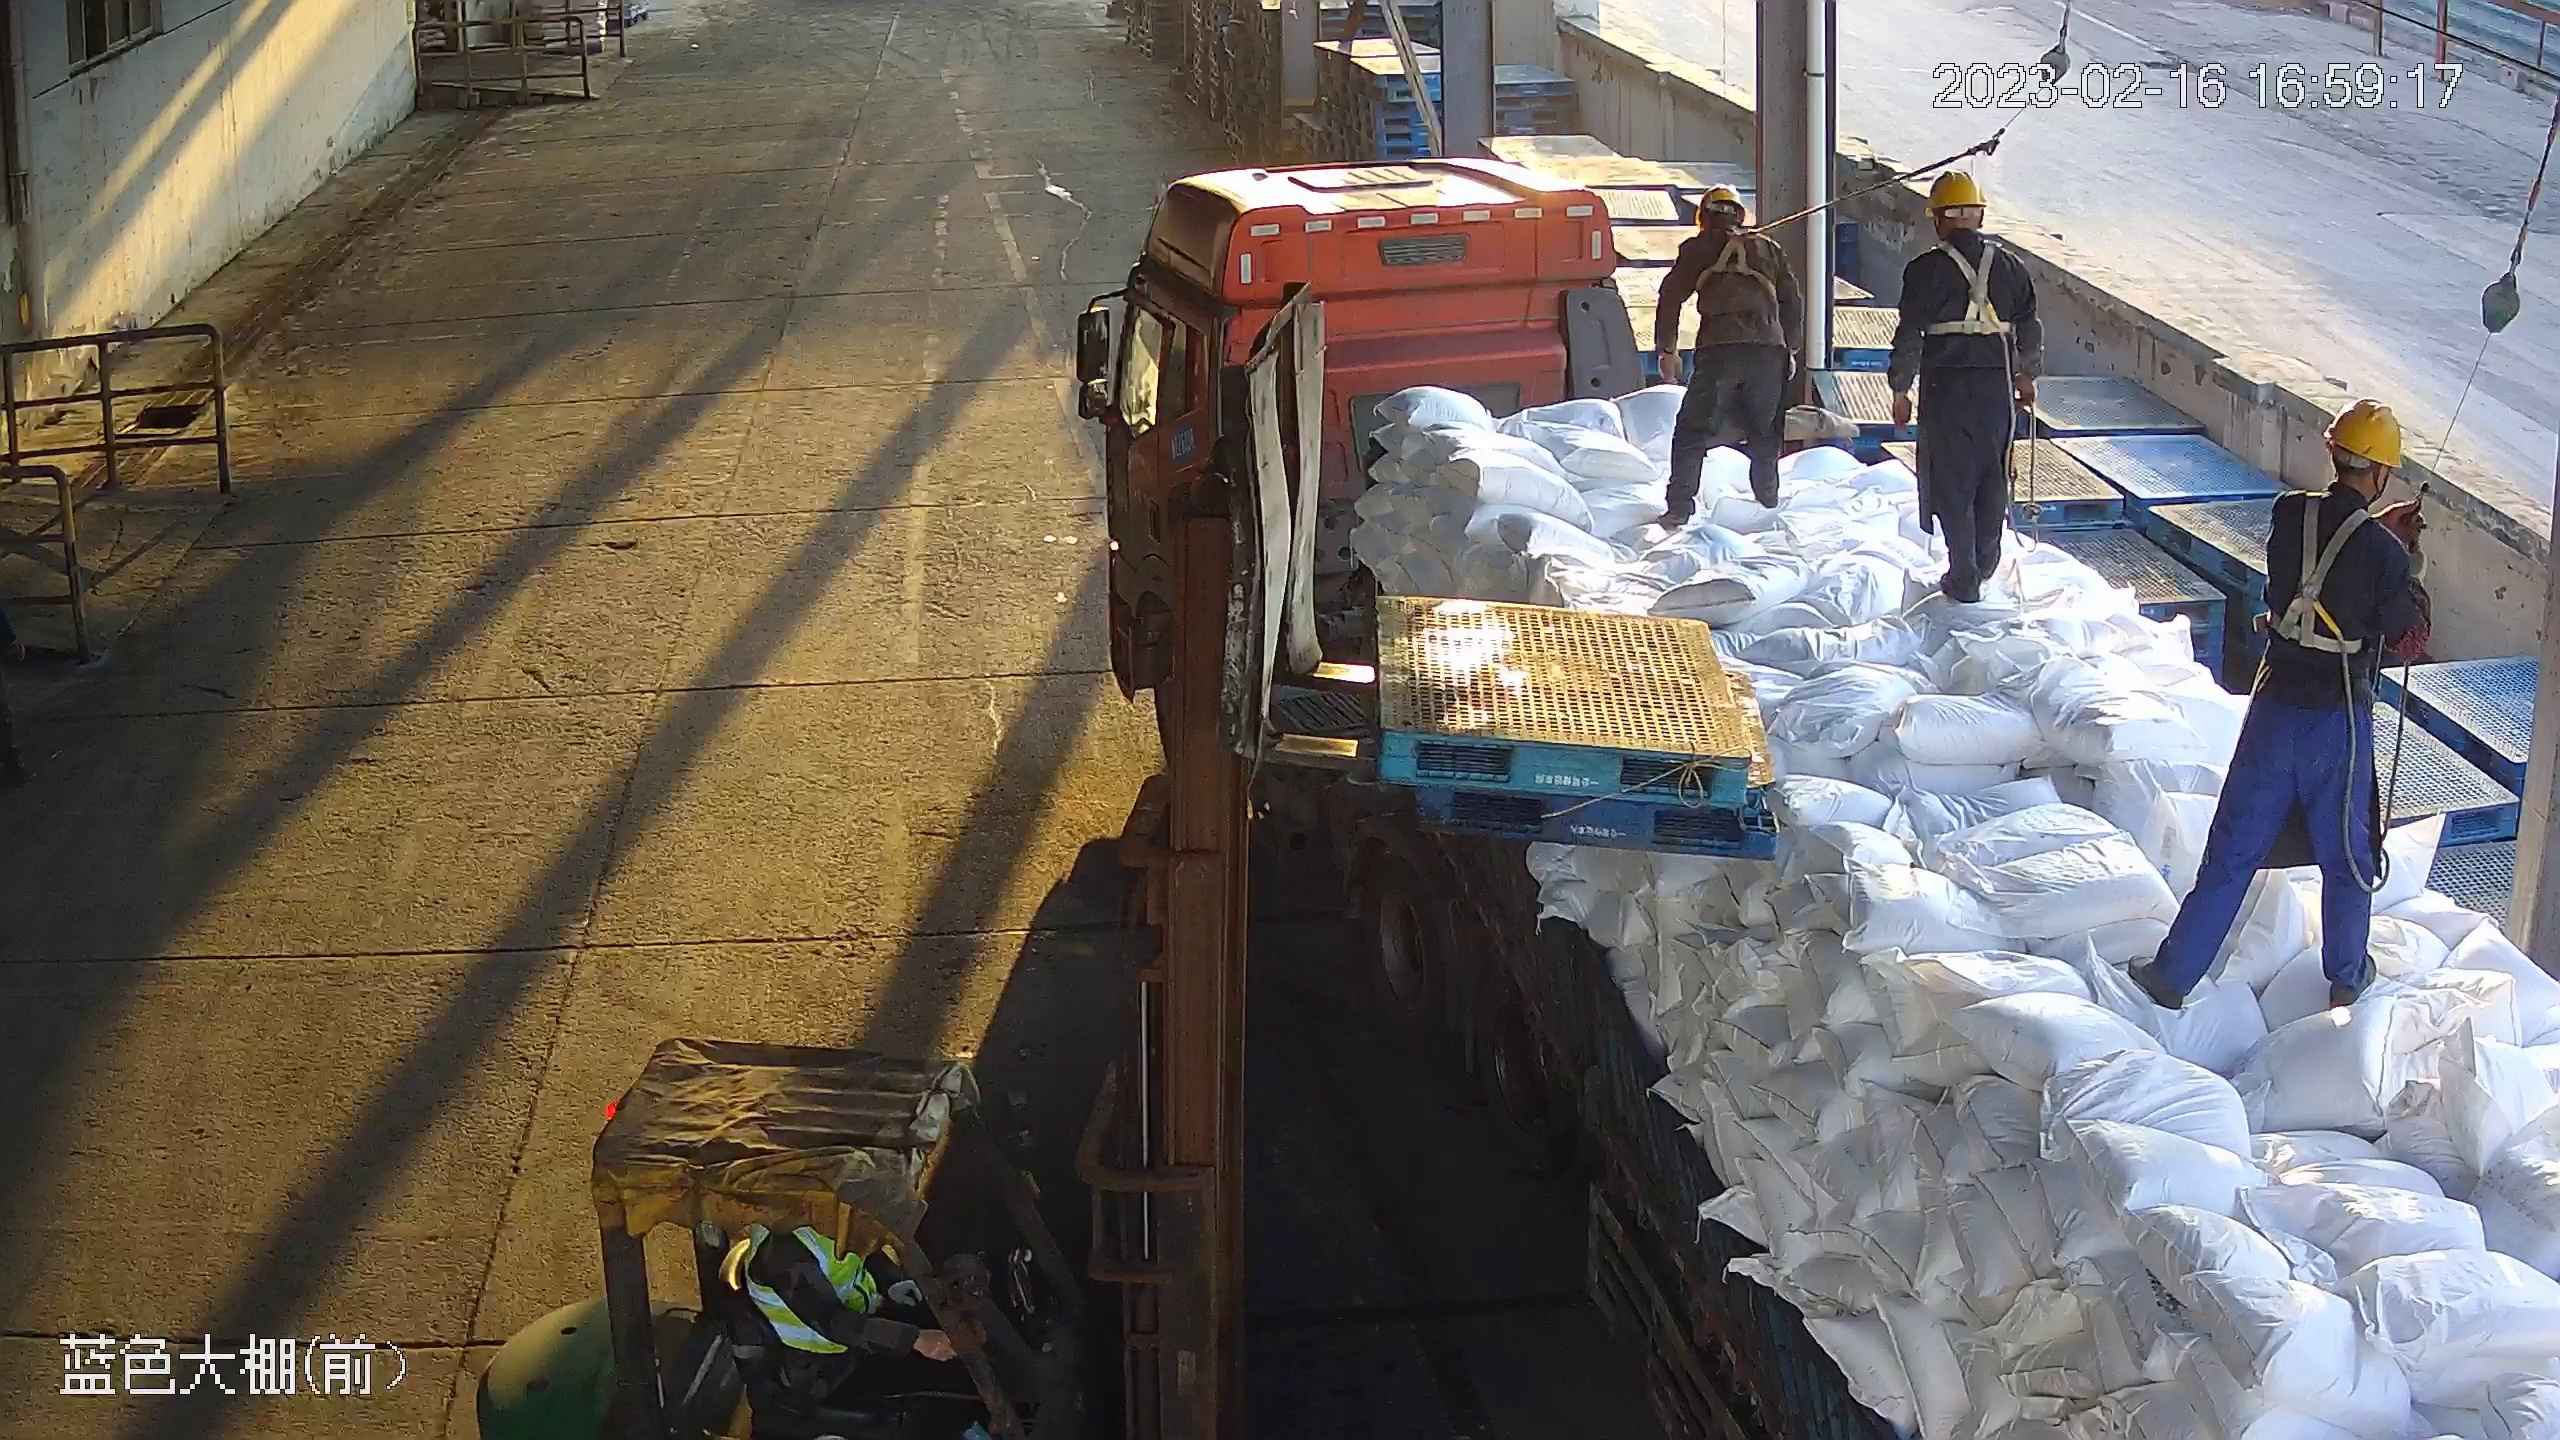belt: (2258, 492, 2374, 646), (1936, 243, 2021, 337), (1695, 221, 1771, 277)
head: (2282, 402, 2409, 557), (1913, 167, 2016, 274), (1688, 188, 1779, 257)
helmet: (2325, 398, 2408, 467), (1924, 169, 1988, 211), (1691, 181, 1747, 229)
people: (2127, 401, 2428, 1006), (1888, 170, 2047, 605), (1644, 183, 1805, 524)
truck: (1060, 157, 2560, 1440)
